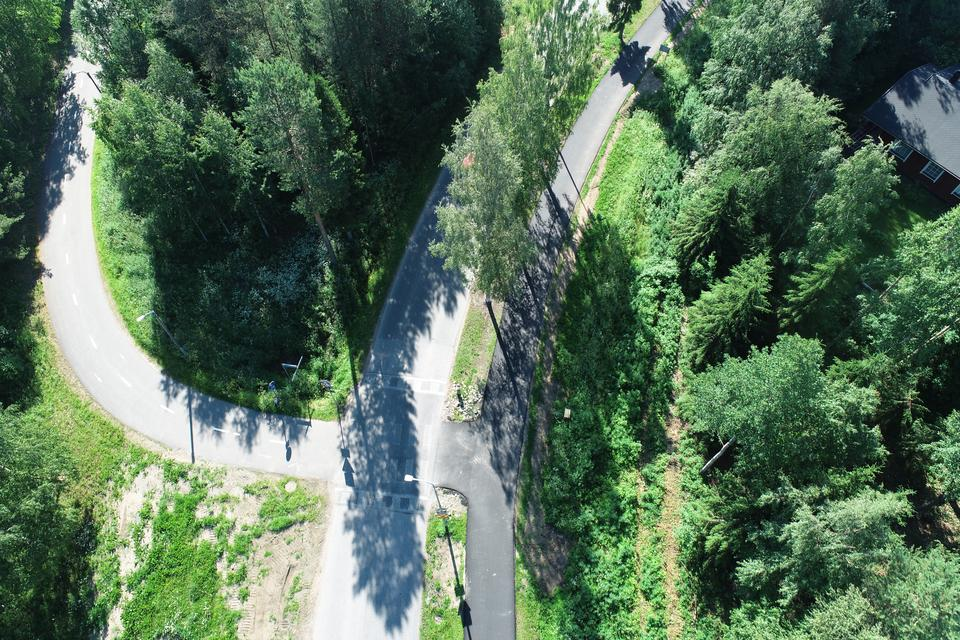intersection: (254, 374, 557, 537)
